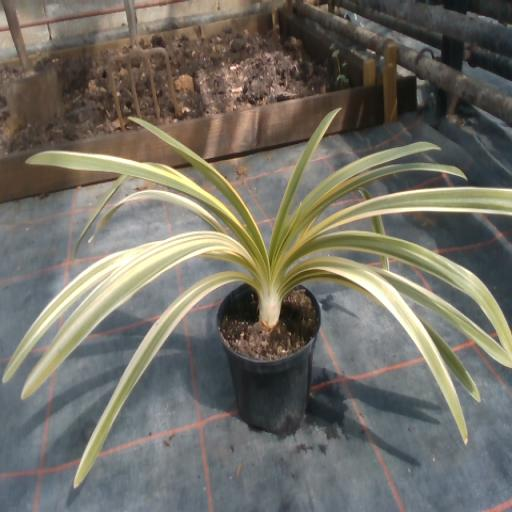Agapanthus-praecox: (74, 271, 250, 487), (22, 233, 252, 398), (286, 261, 467, 442), (26, 151, 262, 262), (298, 230, 511, 350), (2, 243, 153, 381), (135, 118, 269, 269), (282, 187, 511, 263), (283, 162, 465, 246), (374, 268, 511, 367), (270, 109, 340, 263), (286, 153, 382, 235), (94, 190, 225, 235), (74, 175, 130, 257), (422, 322, 479, 400), (383, 150, 398, 162), (151, 163, 173, 171), (372, 218, 383, 234), (358, 188, 372, 199), (381, 256, 388, 270)
